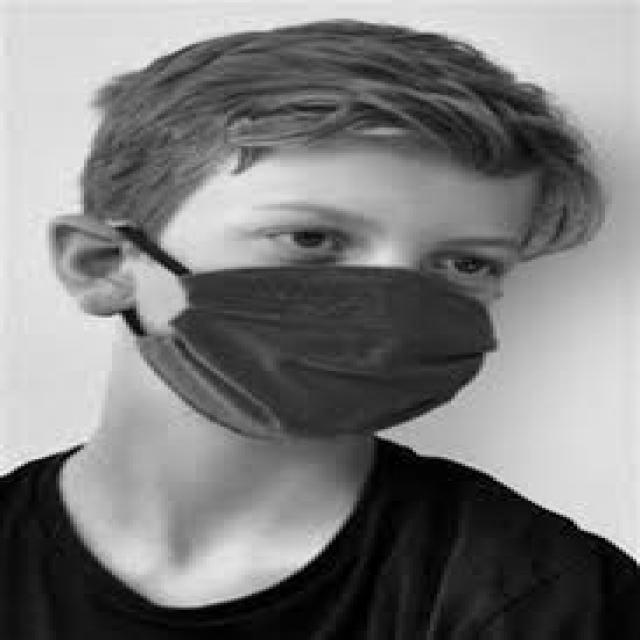fake: (138, 240, 573, 492)
real: (136, 163, 545, 463)
